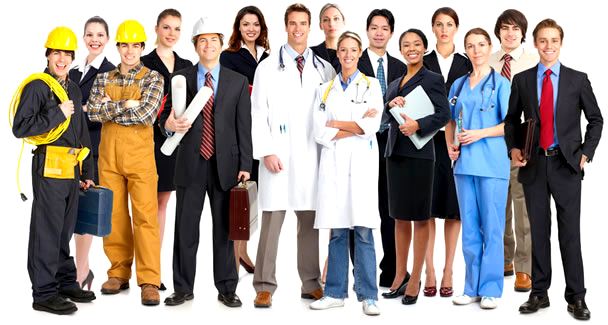Humano: (522, 17, 591, 298), (26, 23, 89, 316), (185, 14, 243, 307), (330, 31, 386, 312), (112, 21, 164, 307), (459, 28, 508, 312), (270, 6, 322, 249), (390, 23, 434, 291), (231, 3, 273, 82), (151, 1, 189, 76), (76, 15, 115, 83), (362, 5, 398, 75), (491, 6, 526, 72), (430, 5, 461, 75), (317, 1, 343, 66)
